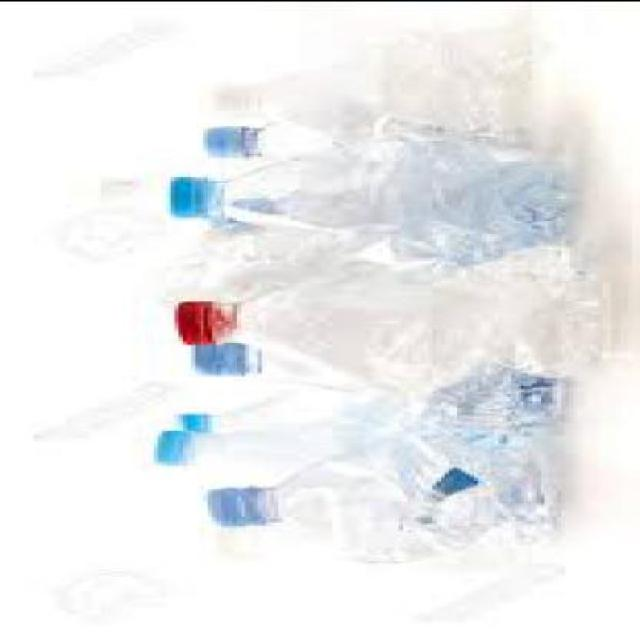PLASTIC: (171, 240, 611, 375), (166, 141, 591, 261), (203, 437, 569, 560), (403, 359, 579, 550), (212, 25, 523, 133), (170, 324, 519, 391), (200, 112, 582, 170), (175, 381, 399, 448), (145, 421, 404, 476), (170, 294, 224, 344), (199, 482, 258, 527), (187, 339, 245, 373), (200, 121, 246, 156), (166, 172, 203, 214), (150, 427, 187, 462), (208, 82, 242, 109), (174, 406, 203, 429)
